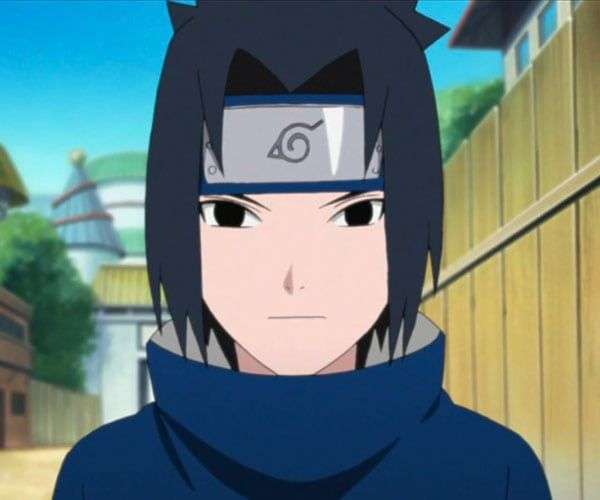sasuke: (180, 87, 397, 375)
